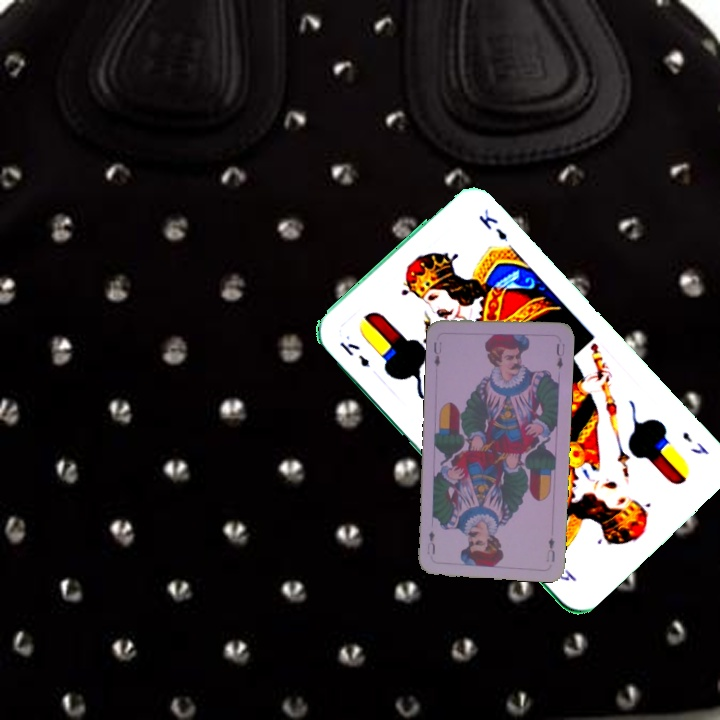EK: (335, 338, 372, 370), (678, 427, 711, 458)
EU: (429, 338, 444, 369), (542, 534, 557, 565)
